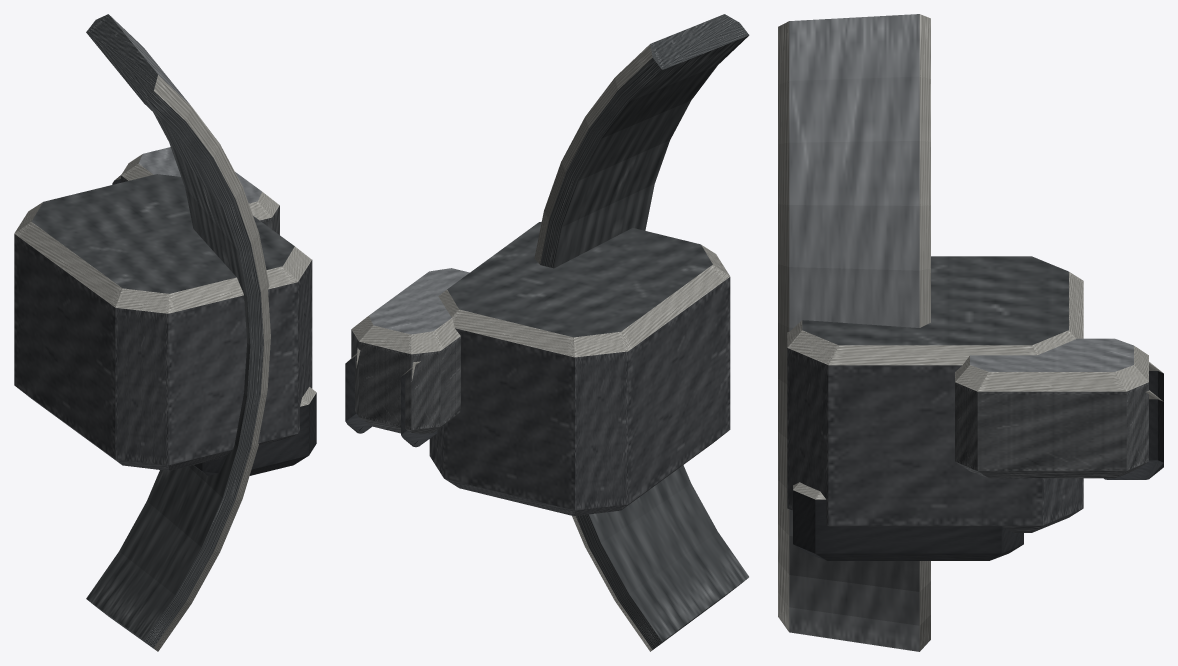
Rendered from Hand.glb.
3 views of the same model, side by side, from view 1: azimuth 30°, elevation 25°; view 2: azimuth 150°, elevation 25°; view 3: azimuth 270°, elevation 25° (orthographic). The views are drawn at different scales.
Visible parts, largest first — view 1: Hand; view 2: Hand; view 3: Hand.
Boxes of the visible parts, x1,y1,x2,y2 form: Hand: (14,14,316,651); Hand: (345,14,749,651); Hand: (778,14,1163,651).
Size of the model in its own units: 0.154 by 0.3775 by 0.207.
Materials: 1 (1 with a texture image).
